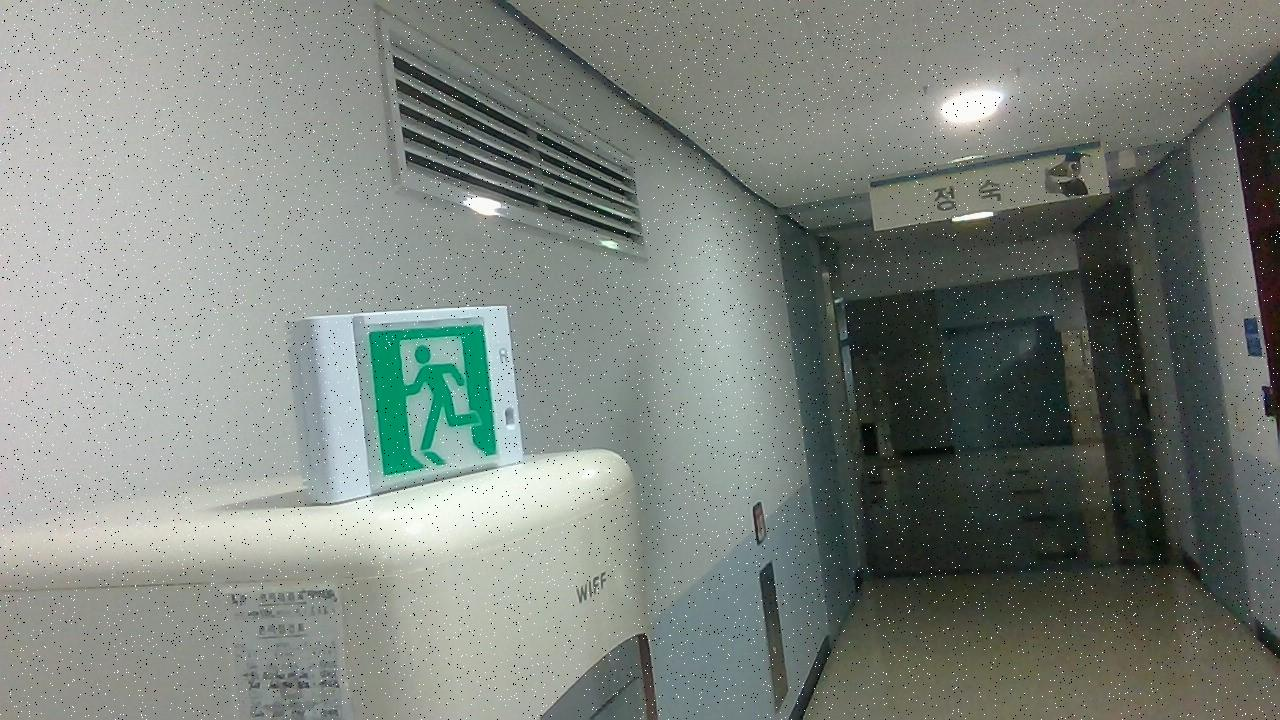emergency_exit: (291, 304, 525, 506), (868, 139, 1112, 233)
